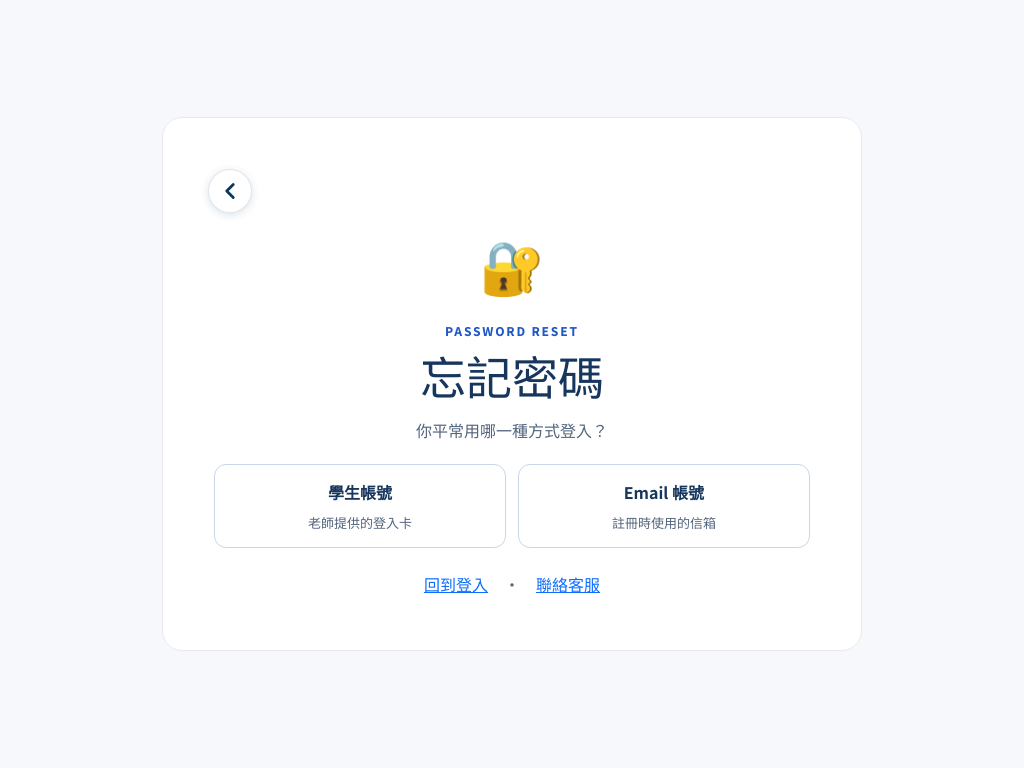
Test: sends the existing reset email only after the Email account is selected
The width and height of the screenshot is (1024, 768).
Click the button "Email 帳號 註冊時使用的信箱".
click(664, 506)  # box [518, 464, 810, 548]
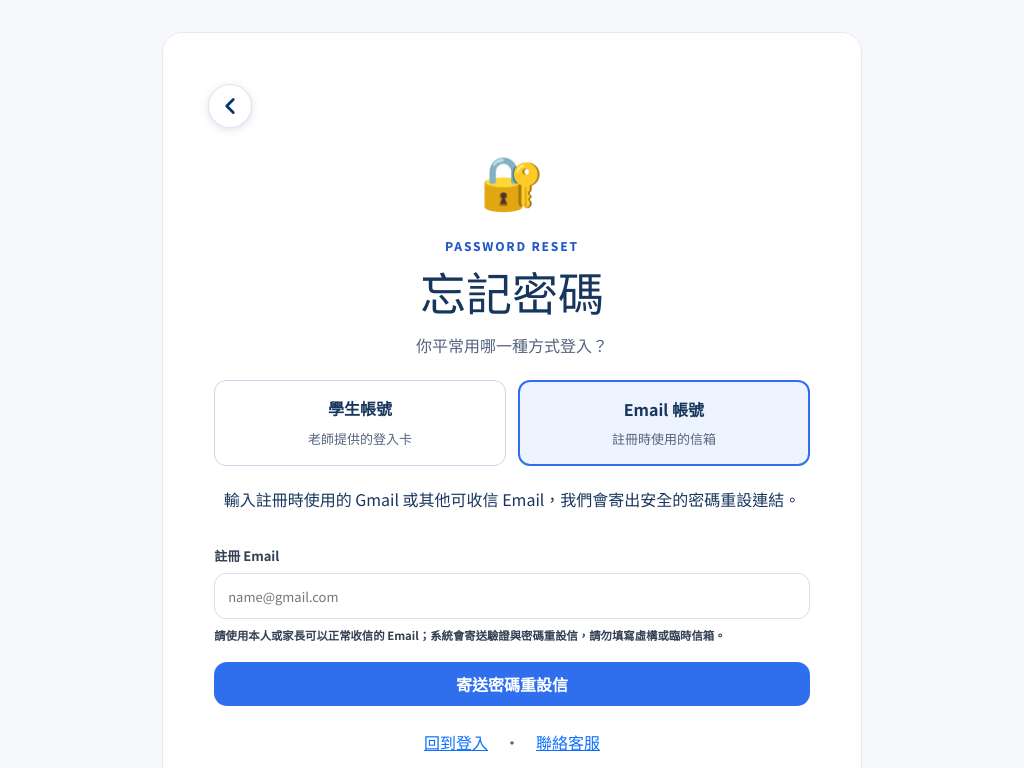
Type "Parent@Gmail.com" into the field.
click(512, 596); type("Parent@Gmail.com")  # box [214, 573, 810, 619]
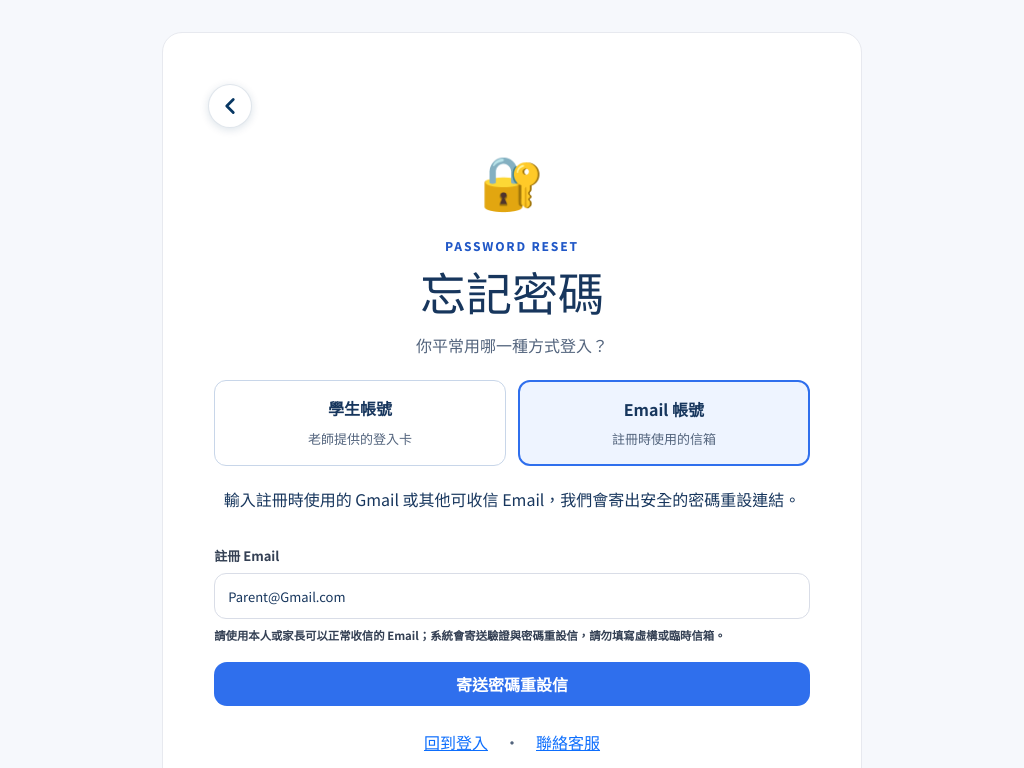
Click the button "寄送密碼重設信".
click(512, 684)  # box [214, 662, 810, 706]
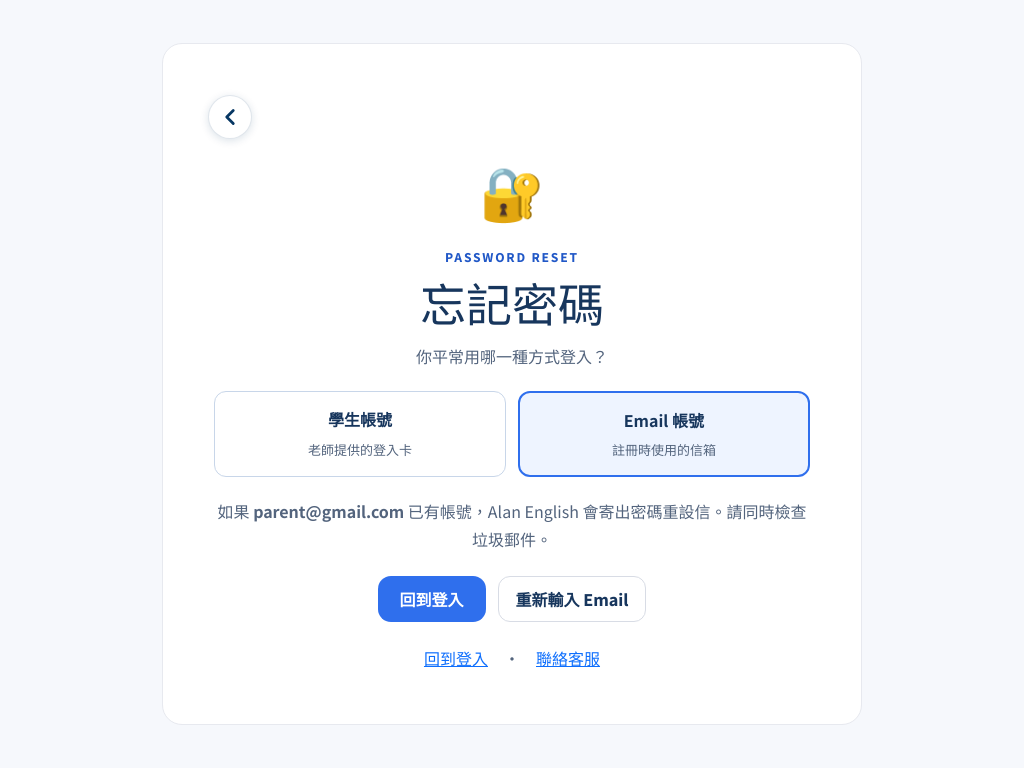
Check: the text "如果 parent@gmail.com 已有帳號，Alan English 會寄出密碼重設信。請同時檢查垃圾郵件。" is shown, box [214, 496, 810, 554]
